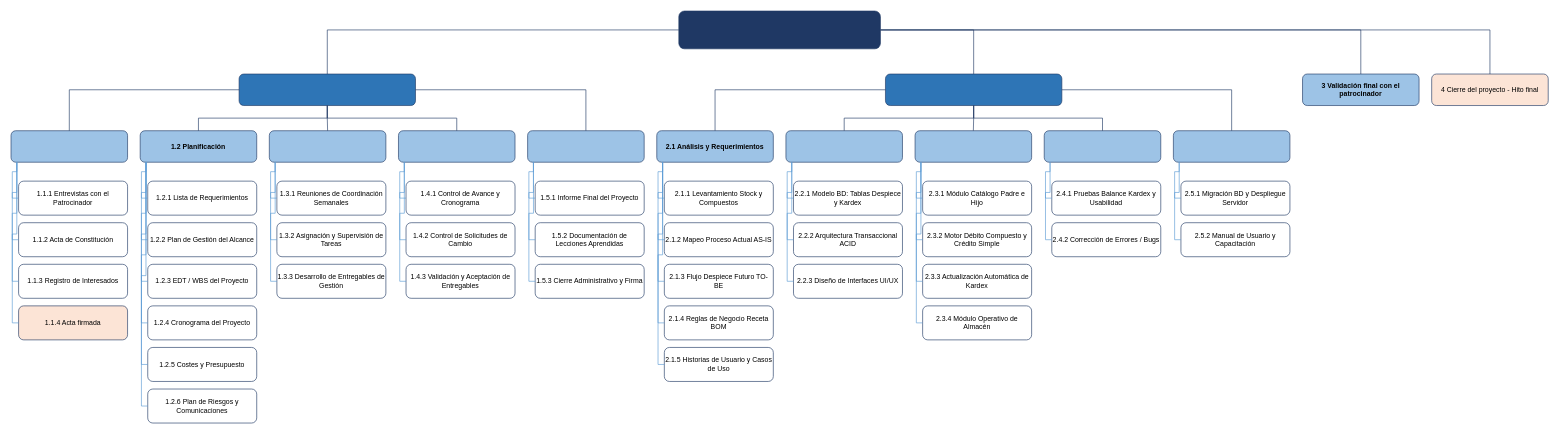
Some shapes in this 1559 by 434 pixel diagram are drawn without their labels. Each missing label, with the centre of its shape:
"0 CND – Mejora de la gestión de productos compuestos (Casa Novedades Decor)" belongs at (x=779, y=29).
"1 Gestión del Proyecto" belongs at (x=326, y=89).
"1.1 Inicio" belongs at (x=69, y=146).
"1.3 Ejecución" belongs at (x=327, y=146).
"1.4 Monitoreo y Control" belongs at (x=456, y=146).
"1.5 Cierre" belongs at (x=585, y=146).
"2 Desarrollo e Implementación ERP" belongs at (x=973, y=89).
"2.2 Análisis y Diseño" belongs at (x=843, y=146).
"2.3 Construcción y Adecuación ERP" belongs at (x=973, y=146).
"2.4 Pruebas y QA" belongs at (x=1102, y=146).
"2.5 Despliegue y Cierre Técnico" belongs at (x=1231, y=146).
